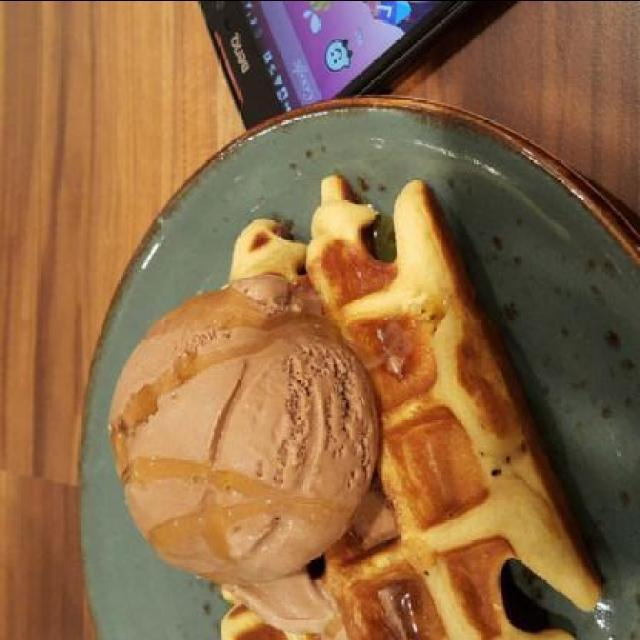Waffle: (120, 166, 604, 640)
